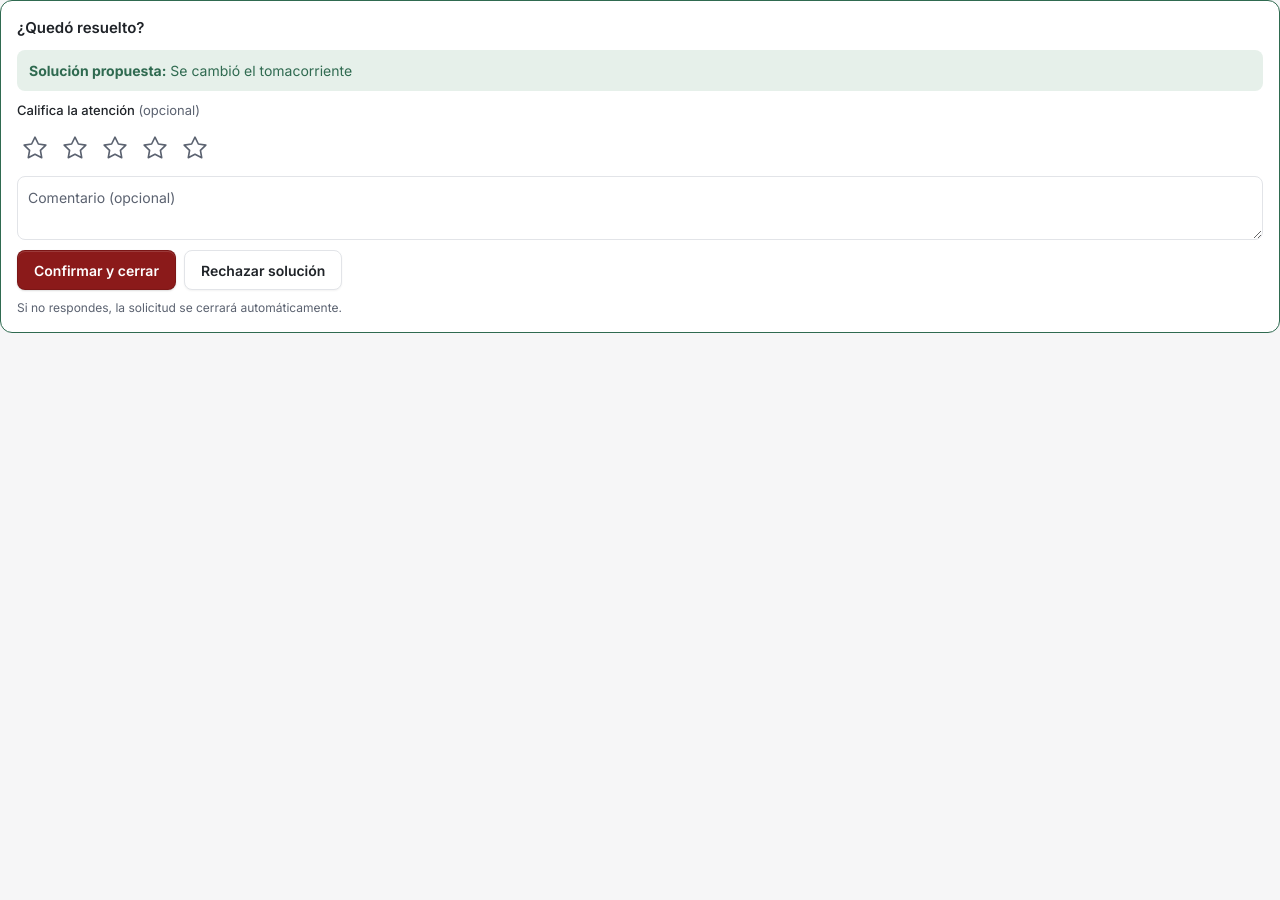
SatisfactionPanel: solicitud resuelta › confirmar con estrellas cierra y después guarda la calificación
Click the radio button named "4 estrellas".
click(155, 148)  # box left=137, top=130, right=173, bottom=166
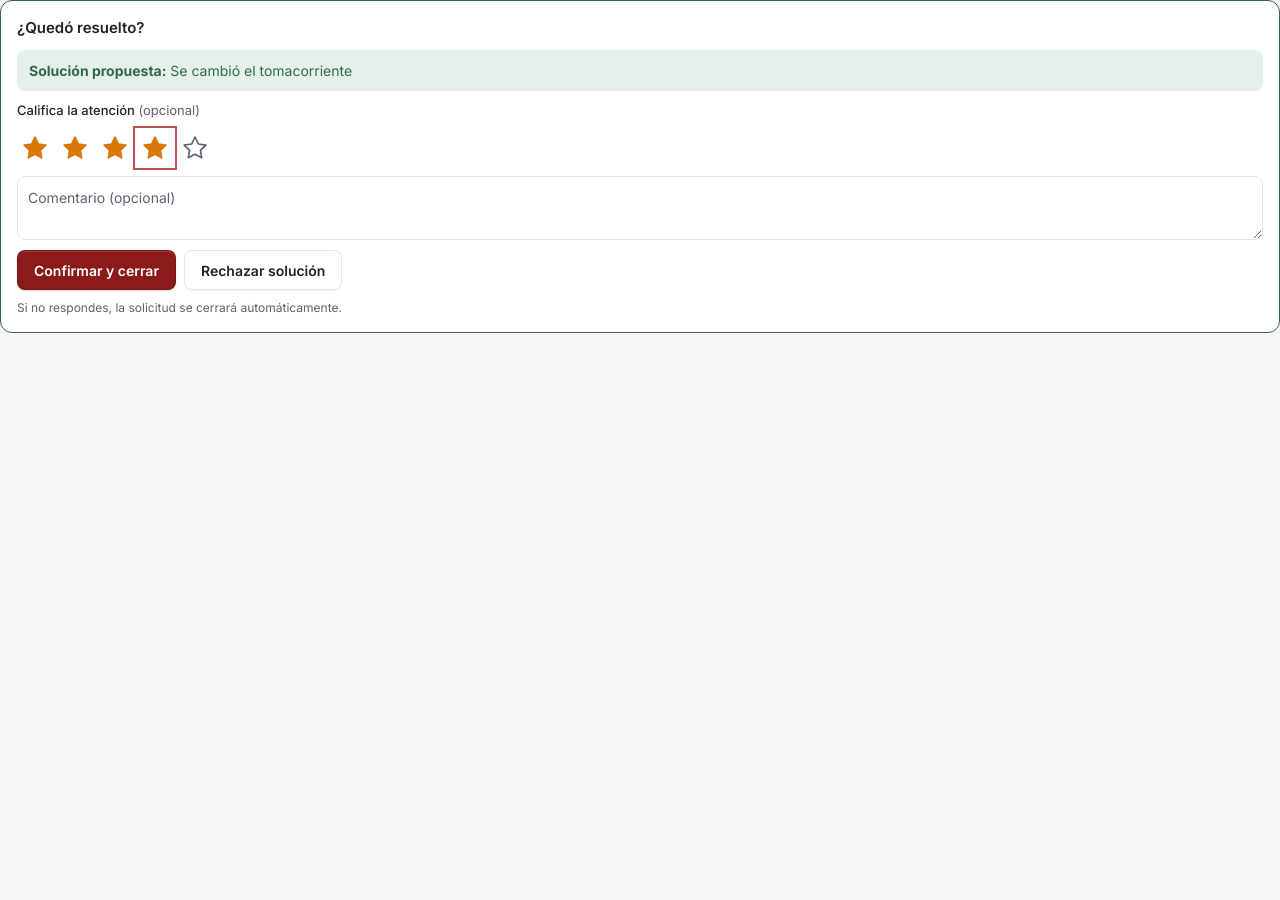
Type "  Muy rápido  " into the text box labelled "Comentario".
click(640, 208); type("  Muy rápido  ")  # box left=17, top=176, right=1263, bottom=240
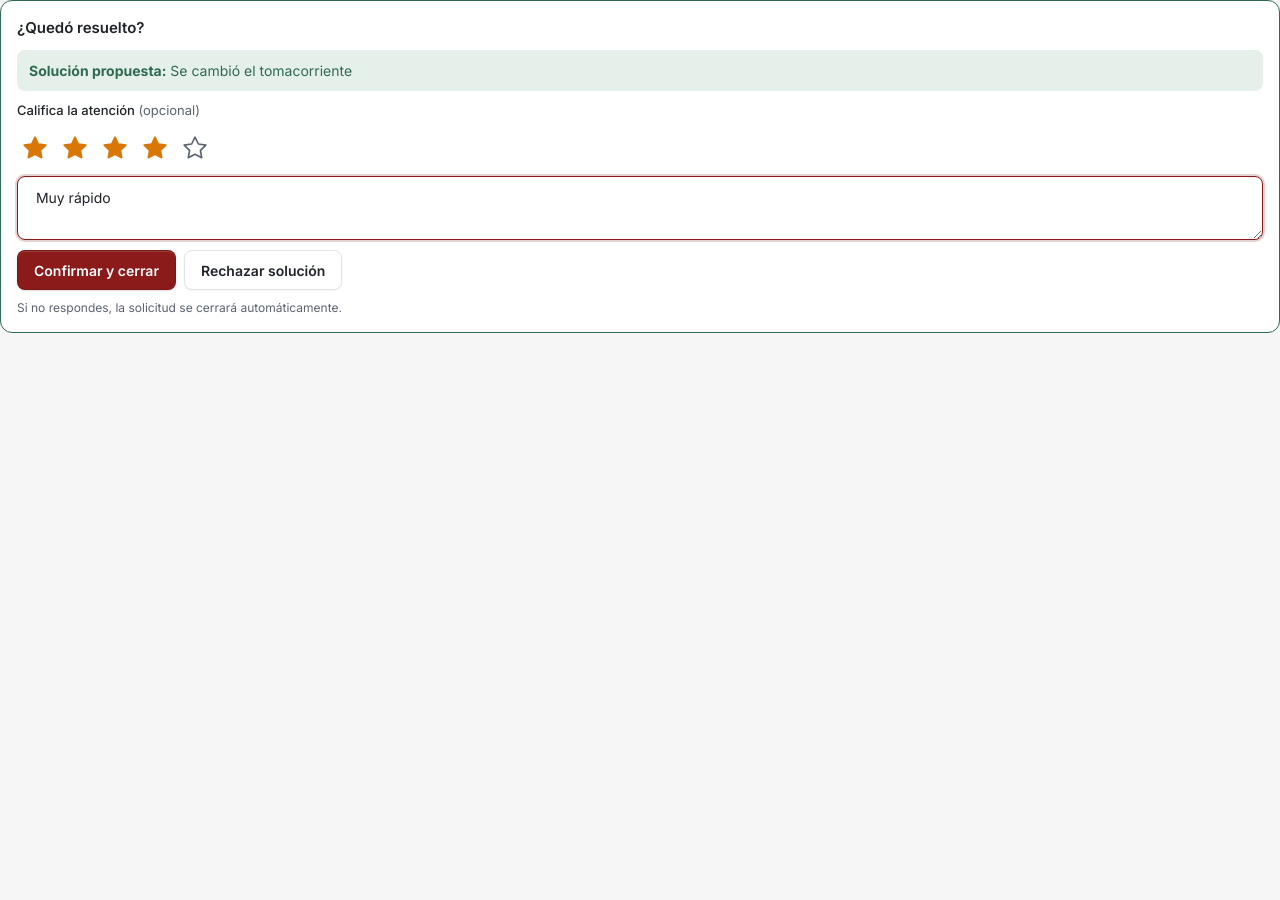
Click the button "Confirmar y cerrar".
click(96, 270)  # box left=17, top=250, right=176, bottom=290
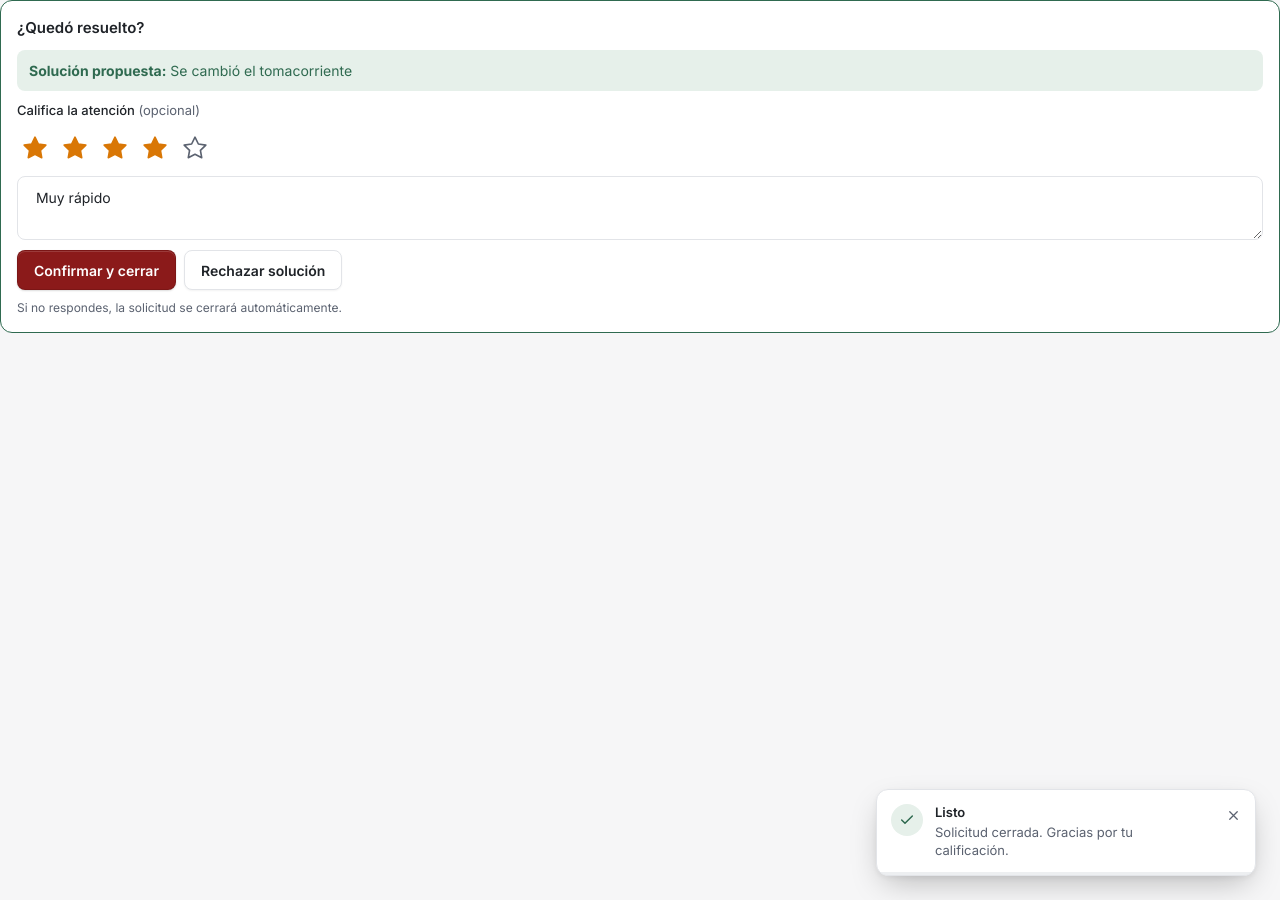
Check: the text "Solicitud cerrada. Gracias por tu calificación." is shown, box left=935, top=824, right=1133, bottom=858
